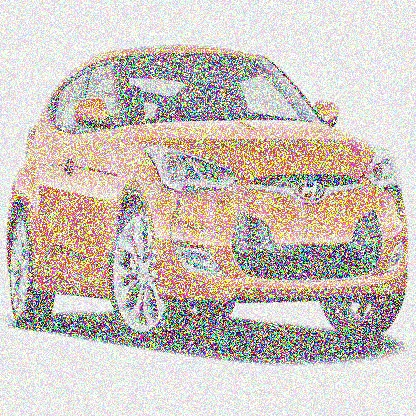Vehicle: (5, 42, 413, 351)
